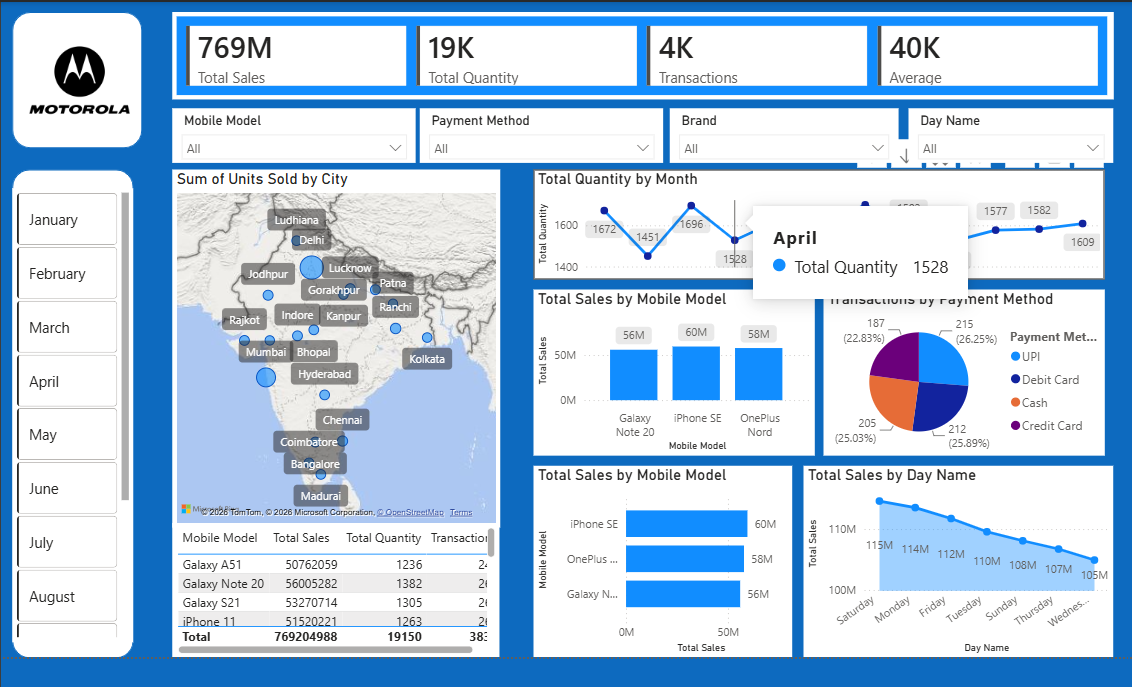

This screenshot's page, from the dashboard's own definition file:
{"tool":"powerbi","page":{"name":"Page 1","canvas":[1280,720],"ordinal":0},"visuals":[{"type":"shape","box":[12.3,11,142.7,149.6],"z":0},{"type":"image","box":[17.8,24.7,137.2,122.1],"z":1000},{"type":"shape","box":[12.3,183.9,133.1,536.5],"z":2000},{"type":"advancedSlicerVisual","fields":{"Values":["Sales_Data.Date.Variation.Date Hierarchy.Month"]},"box":[12.3,204.5,133.1,498.1],"z":3000},{"type":"cardVisual","fields":{"Data":["Sales_Data.Total Sales","Sales_Data.Total Quantity","Sales_Data.Transactions","Sales_Data.Average"]},"box":[188,11,1033.3,96.1],"z":4000},{"type":"map","fields":{"Category":["Sales_Data.City"],"Size":["Sum(Sales_Data.Units Sold)"]},"box":[188,183.9,359.5,392.5],"z":5000},{"type":"lineChart","fields":{"Category":["Sales_Data.Date.Variation.Date Hierarchy.Month","Sales_Data.Date.Variation.Date Hierarchy.Day"],"Y":["Sales_Data.Total Quantity"]},"box":[584.6,183.9,627.1,120.8],"z":6000},{"type":"clusteredColumnChart","fields":{"Category":["Sales_Data.Mobile Model","Sales_Data.Date.Variation.Date Hierarchy.Month","Sales_Data.Date.Variation.Date Hierarchy.Day"],"Y":["Sales_Data.Total Sales"]},"box":[584.6,315.6,308.7,182.5],"z":7000},{"type":"pieChart","fields":{"Category":["Sales_Data.Payment Method"],"Y":["Sales_Data.Transactions"]},"box":[902.9,315.6,308.7,182.5],"z":8000},{"type":"clusteredBarChart","fields":{"Category":["Sales_Data.Mobile Model"],"Y":["Sales_Data.Total Sales"]},"box":[584.6,509.1,284,211.3],"z":9000},{"type":"stackedAreaChart","fields":{"Y":["Sales_Data.Total Sales"],"Category":["Sales_Data.Day Name"]},"box":[881,509.1,340.3,211.3],"z":10000},{"type":"tableEx","fields":{"Values":["Sales_Data.Mobile Model","Sales_Data.Total Sales","Sales_Data.Total Quantity","Sales_Data.Transactions"]},"box":[188,572.2,359.5,148.2],"z":11000},{"type":"slicer","fields":{"Values":["Sales_Data.Mobile Model"]},"box":[188,116.6,267.6,60.4],"z":12000},{"type":"slicer","fields":{"Values":["Sales_Data.Payment Method"]},"box":[459.7,116.6,267.6,60.4],"z":13000},{"type":"slicer","fields":{"Values":["Sales_Data.Brand"]},"box":[734.1,116.6,251.1,60.4],"z":14000},{"type":"slicer","fields":{"Values":["Sales_Data.Day Name"]},"box":[996.2,116.6,225,60.4],"z":15000}]}

Visuals, with their boxes in screenshot pixels (x1, y1, x2, y2):
shape: x1=11, y1=13, x2=140, y2=148
image: x1=16, y1=25, x2=140, y2=136
shape: x1=11, y1=169, x2=131, y2=654
advancedSlicerVisual - Sales_Data.Date.Variation.Date Hierarchy.Month: x1=11, y1=188, x2=131, y2=638
cardVisual - Sales_Data.Total Sales x Sales_Data.Total Quantity: x1=170, y1=13, x2=1104, y2=100
map - Sales_Data.City x Sum(Sales_Data.Units Sold): x1=170, y1=169, x2=495, y2=524
lineChart - Sales_Data.Date.Variation.Date Hierarchy.Month x Sales_Data.Date.Variation.Date Hierarchy.Day: x1=529, y1=169, x2=1096, y2=278
clusteredColumnChart - Sales_Data.Mobile Model x Sales_Data.Date.Variation.Date Hierarchy.Month: x1=529, y1=288, x2=808, y2=453
pieChart - Sales_Data.Payment Method x Sales_Data.Transactions: x1=816, y1=288, x2=1096, y2=453
clusteredBarChart - Sales_Data.Mobile Model x Sales_Data.Total Sales: x1=529, y1=463, x2=785, y2=654
stackedAreaChart - Sales_Data.Total Sales x Sales_Data.Day Name: x1=797, y1=463, x2=1104, y2=654
tableEx - Sales_Data.Mobile Model x Sales_Data.Total Sales: x1=170, y1=520, x2=495, y2=654
slicer - Sales_Data.Mobile Model: x1=170, y1=108, x2=412, y2=163
slicer - Sales_Data.Payment Method: x1=416, y1=108, x2=658, y2=163
slicer - Sales_Data.Brand: x1=664, y1=108, x2=891, y2=163
slicer - Sales_Data.Day Name: x1=901, y1=108, x2=1104, y2=163
